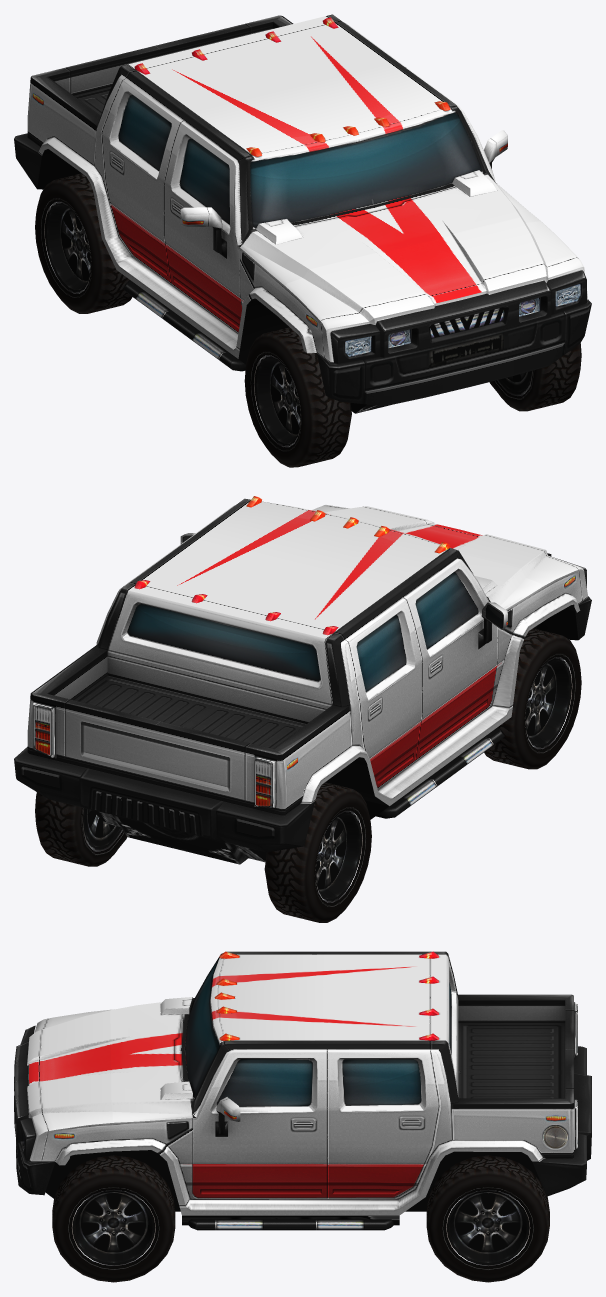
3 views of the same model, one above another, from view 1: azimuth 30°, elevation 25°; view 2: azimuth 150°, elevation 25°; view 3: azimuth 270°, elevation 25° (orthographic). The views are drawn at different scales.
Parts seen in each view (by area): view 1: player_chassis, veh_wheel_fr, veh_wheel_b, veh_wheel_fl; view 2: player_chassis, veh_wheel_b, veh_wheel_fr; view 3: player_chassis, veh_wheel_fl, veh_wheel_b.
Boxes of the visible parts, left/top/right/bottom form: player_chassis: left=14, top=14, right=591, bottom=413; veh_wheel_fr: left=244, top=327, right=351, bottom=467; veh_wheel_b: left=35, top=173, right=132, bottom=313; veh_wheel_fl: left=489, top=343, right=581, bottom=411; player_chassis: left=14, top=496, right=591, bottom=864; veh_wheel_b: left=35, top=782, right=371, bottom=922; veh_wheel_fr: left=484, top=628, right=581, bottom=769; player_chassis: left=14, top=951, right=591, bottom=1230; veh_wheel_fl: left=52, top=1155, right=175, bottom=1282; veh_wheel_b: left=426, top=1155, right=549, bottom=1282.
Size of the model in its own units: 245 by 187 by 424.
